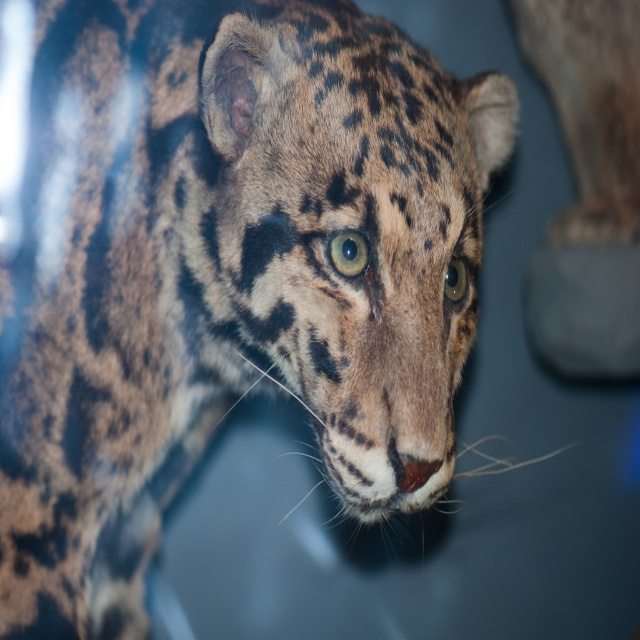Leopard: (0, 2, 580, 639)
